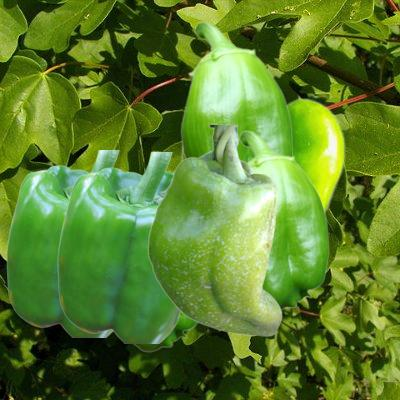bell_pepper: (147, 125, 281, 335), (57, 152, 180, 342), (6, 150, 125, 336), (179, 95, 344, 226), (239, 130, 328, 310), (180, 21, 292, 161), (131, 313, 197, 351)
